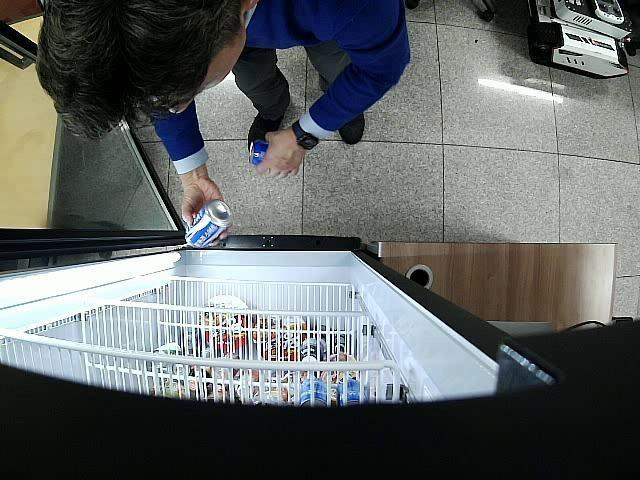13_pocariSweat: (185, 200, 233, 248), (246, 139, 268, 165)
